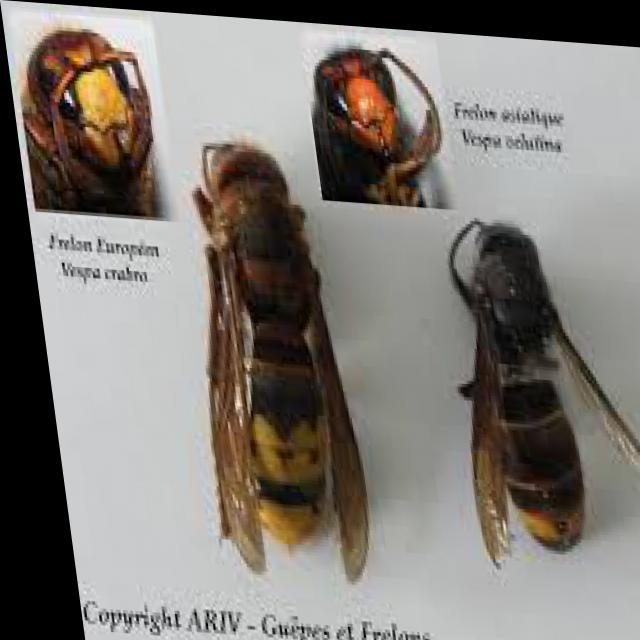Vespa Velutina: (405, 208, 639, 581), (300, 30, 449, 202)
